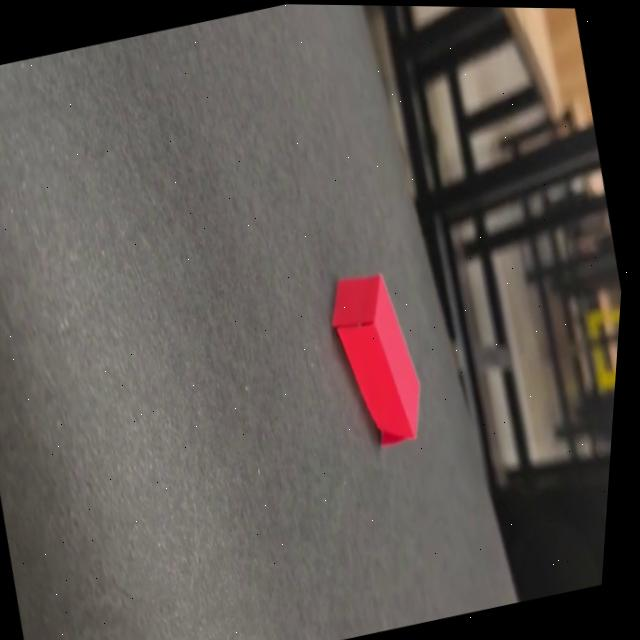red block: (312, 262, 440, 455)
